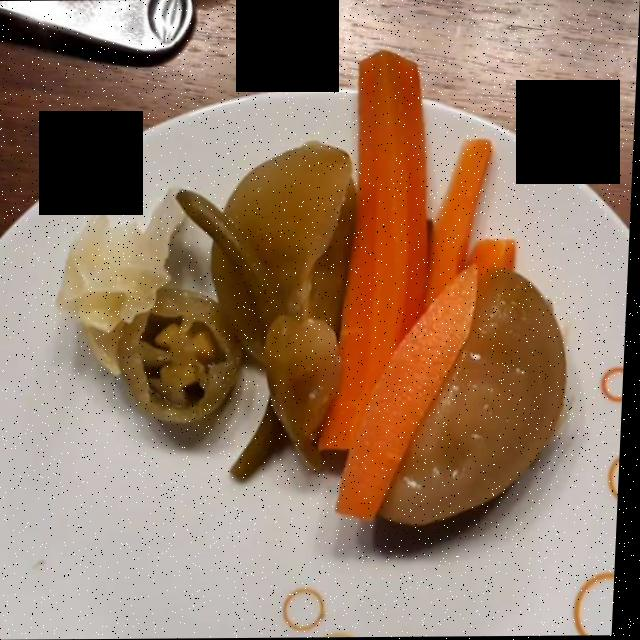mixed-vegetables: (75, 26, 567, 534)
